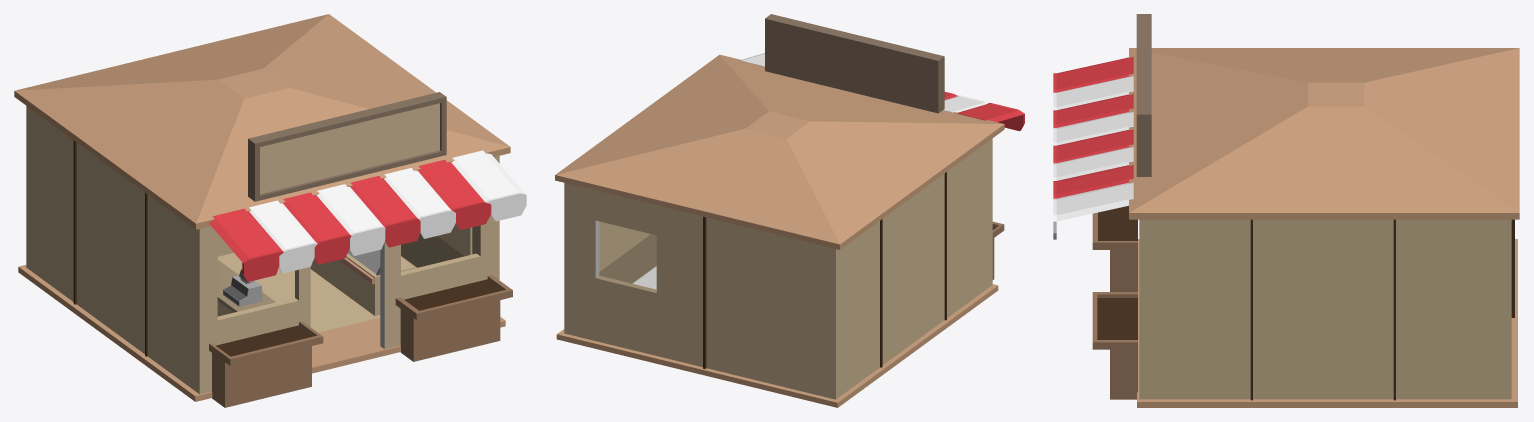
The model's file is bakery_low_poly.glb.
3 renders of one model, left to right at view 1: azimuth 30°, elevation 25°; view 2: azimuth 150°, elevation 25°; view 3: azimuth 270°, elevation 25°, orthographic. The views are drawn at different scales.
Parts seen in each view (by area): view 1: Roof, Walls, Flower Pots, Floor, Display.001, Counter, Cash Register; view 2: Walls, Roof, Floor; view 3: Roof, Walls, Flower Pots, Floor.
Boxes of the visible parts, x1,y1,x2,y2 form: Roof: [14, 14, 526, 281]; Walls: [26, 106, 499, 394]; Flower Pots: [209, 275, 512, 407]; Floor: [18, 253, 505, 401]; Display.001: [310, 250, 415, 315]; Counter: [217, 260, 275, 316]; Cash Register: [223, 269, 262, 306]; Walls: [564, 138, 992, 399]; Roof: [555, 14, 1024, 249]; Floor: [556, 284, 998, 407]; Roof: [1053, 14, 1519, 239]; Walls: [1139, 219, 1514, 400]; Flower Pots: [1092, 205, 1137, 399]; Floor: [1137, 239, 1517, 407].
Size of the model in its own units: 5.61 by 4.17 by 6.7.
